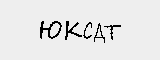Д: (93, 22, 107, 44)
К: (64, 18, 81, 41)
С: (81, 18, 95, 42)
Т: (103, 20, 120, 40)
Ю: (37, 17, 61, 41)
